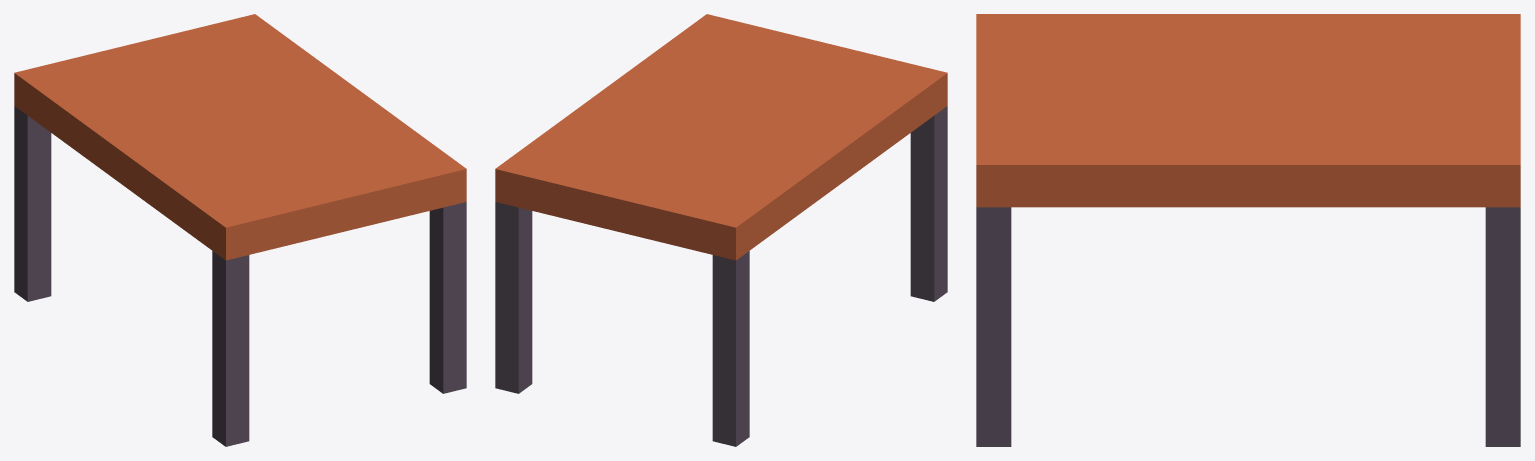
The model's file is Table.fbx.
3 views of the same model, side by side, from view 1: azimuth 30°, elevation 25°; view 2: azimuth 150°, elevation 25°; view 3: azimuth 270°, elevation 25° (orthographic). The views are drawn at different scales.
Visible parts, largest first — view 1: Table; view 2: Table; view 3: Table.
Part boxes in pixels (box(x1,y1,x2,y2)): Table: box(14, 14, 466, 446); Table: box(495, 14, 947, 446); Table: box(976, 14, 1520, 446).
Bounding box in the file's own units: 57.5 × 50 × 87.5.
